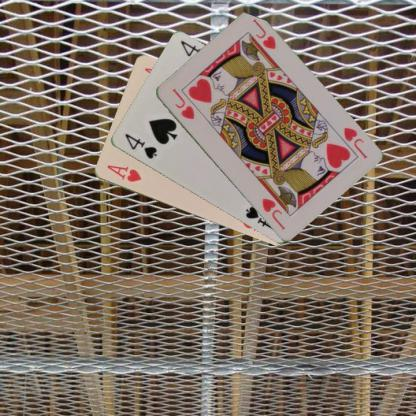4s: (122, 130, 158, 160)
Ah: (104, 162, 143, 184)
Jh: (340, 123, 369, 161), (169, 86, 195, 122)
